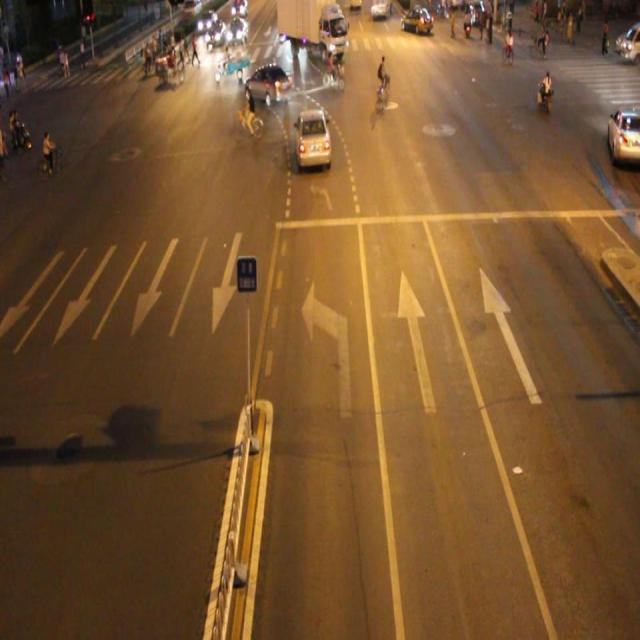car: (242, 63, 292, 105), (296, 108, 330, 169)
